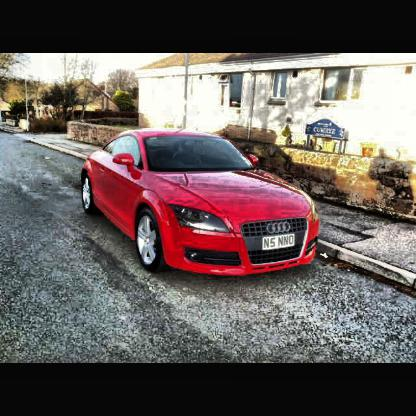Audi TT Hatchback 2011: (76, 132, 326, 273)
